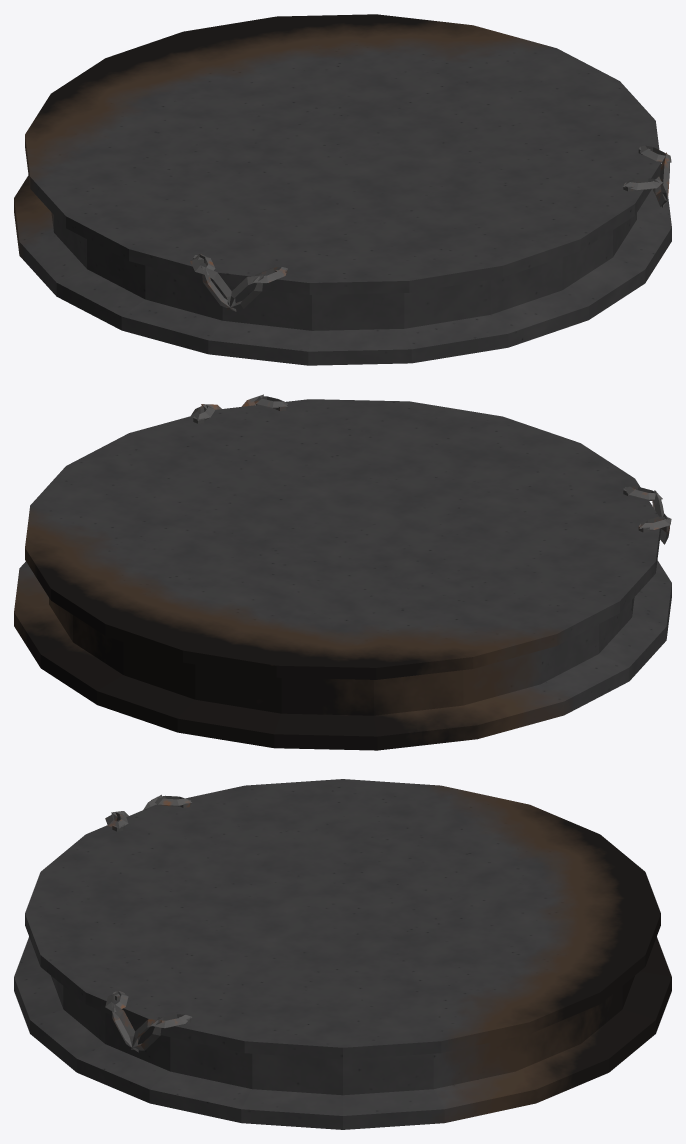
The picture shows the model from 3 angles, top to bottom: view 1: azimuth 30°, elevation 25°; view 2: azimuth 150°, elevation 25°; view 3: azimuth 270°, elevation 25°; orthographic projection.
Visible parts, largest first — view 1: 받침_불멸; view 2: 받침_불멸; view 3: 받침_불멸.
Part boxes in pixels (<box>): 받침_불멸: <box>14,14,671,365</box>; 받침_불멸: <box>14,394,671,750</box>; 받침_불멸: <box>14,779,671,1129</box>.
Size of the model in its own units: 600 by 84.9 by 600.
Materials: 2 (2 with a texture image).
